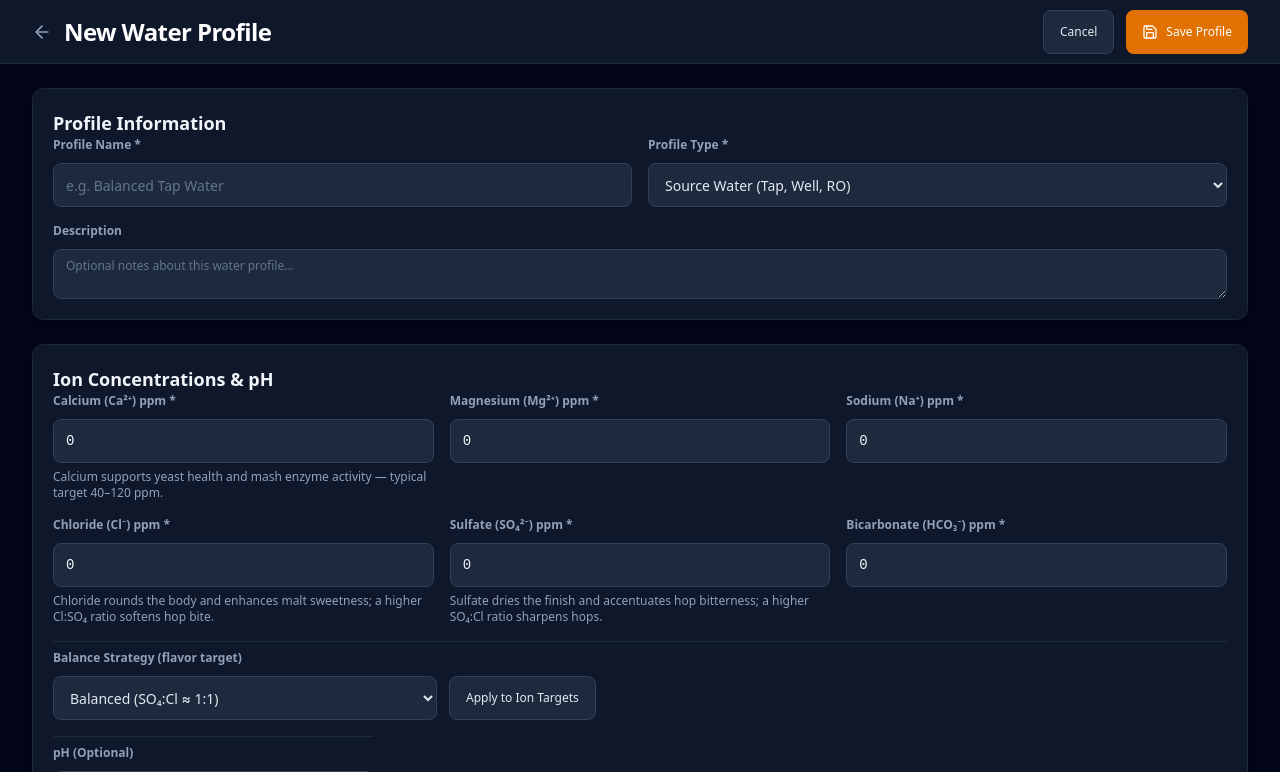
Test: WaterProfileForm AC-37: Balance Strategy preset › applying Crisp Hop-Forward sets sulfate = 2 × chloride (other ions untouched)
The image size is (1280, 772).
Step 1. Replace the text in the number field with test id "water-form-cl" with "100" → (243, 565), box x1=53 y1=543 x2=434 y2=587
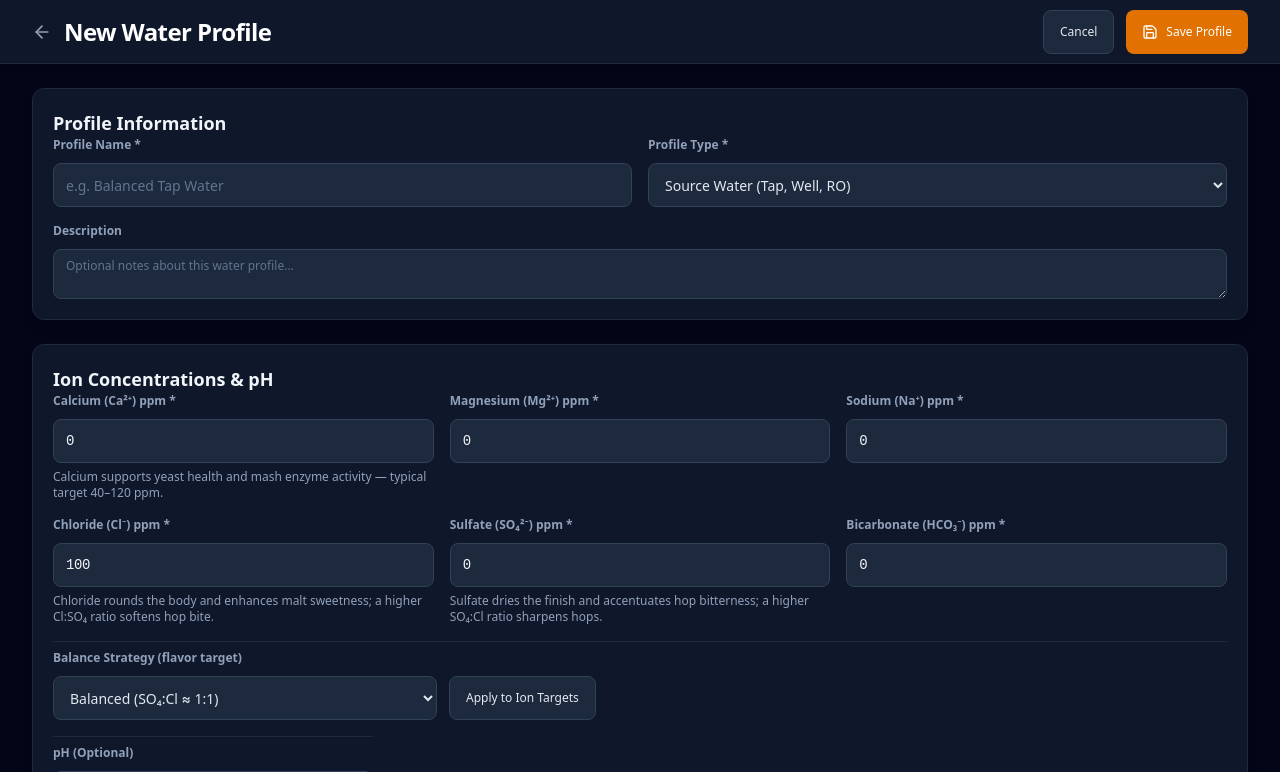
Step 2. Replace the text in the number field with test id "water-form-ca" with "80" → (243, 441), box x1=53 y1=419 x2=434 y2=463
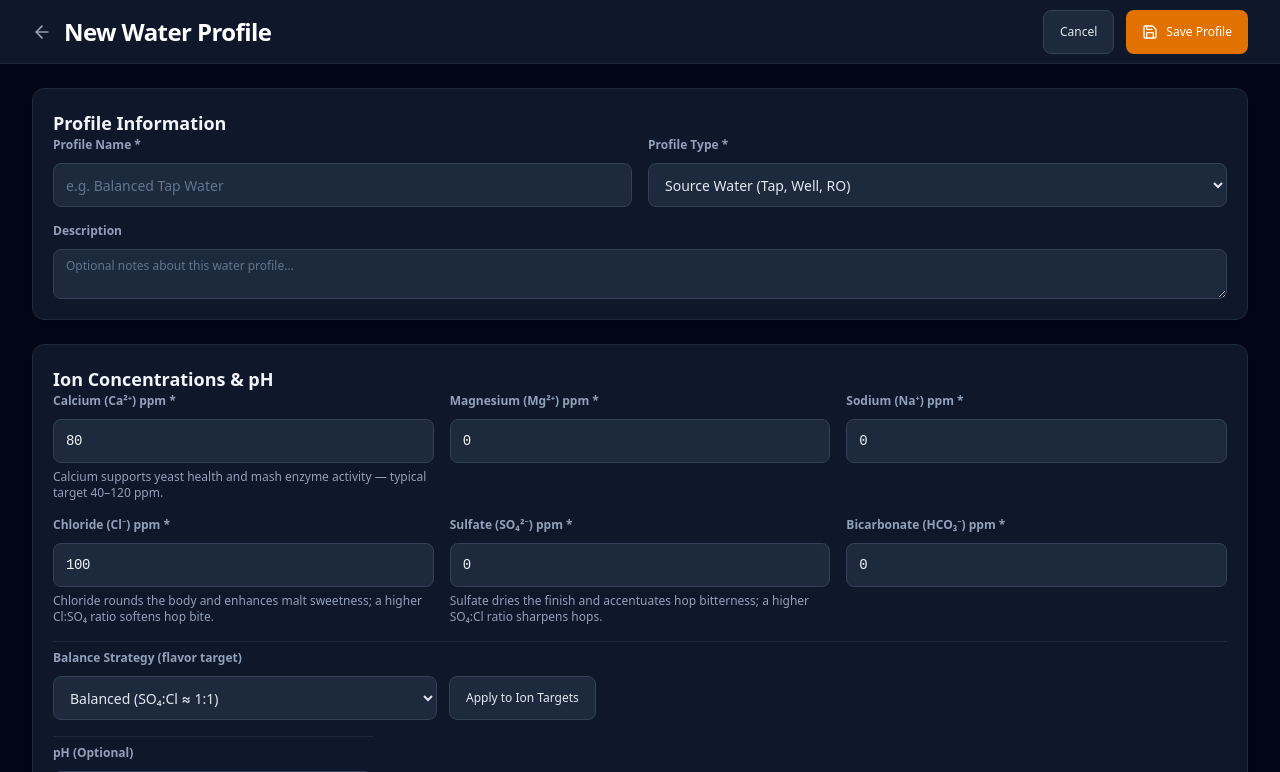
Step 3. Select "Crisp Hop-Forward (SO₄:Cl ≈ 2:1)" in the dropdown with test id "water-form-strategy" → (245, 698), box x1=53 y1=676 x2=437 y2=720
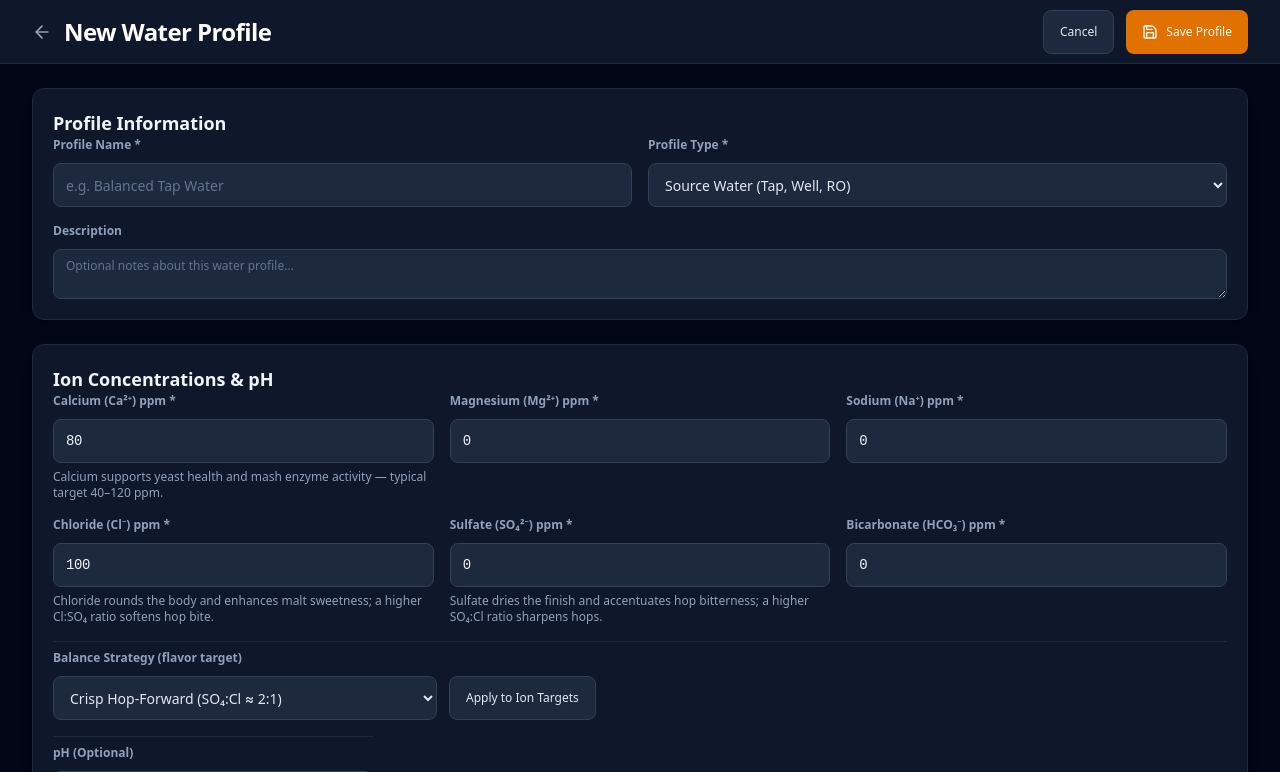
Step 4. Click the button with test id "water-form-apply-strategy" → (522, 698), box x1=449 y1=676 x2=596 y2=720
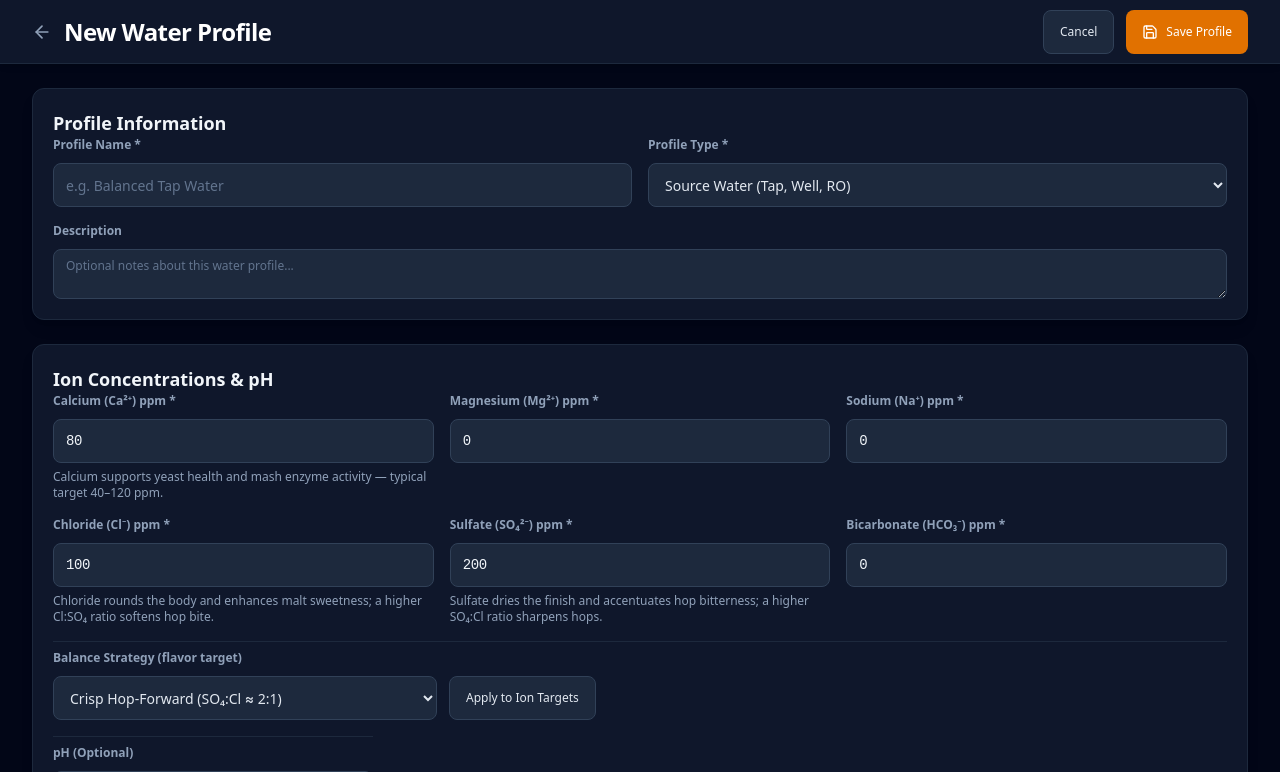
Now the number field with test id "water-form-so4" holds "200", box x1=450 y1=543 x2=830 y2=587
